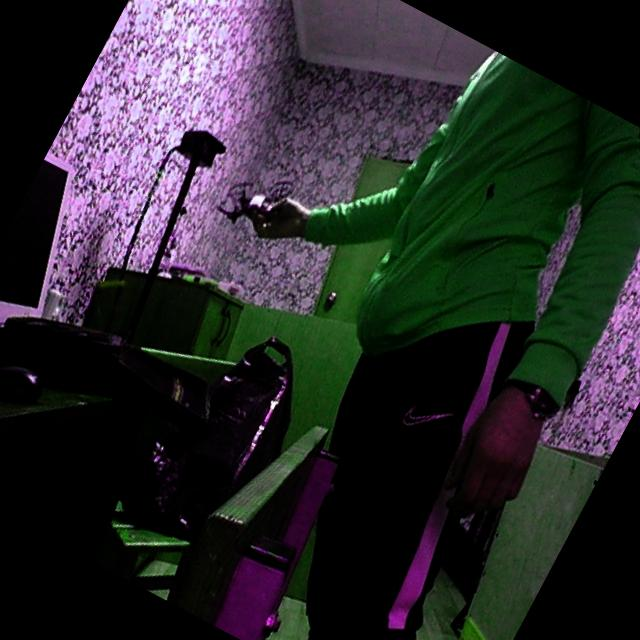drone: (211, 150, 305, 244)
